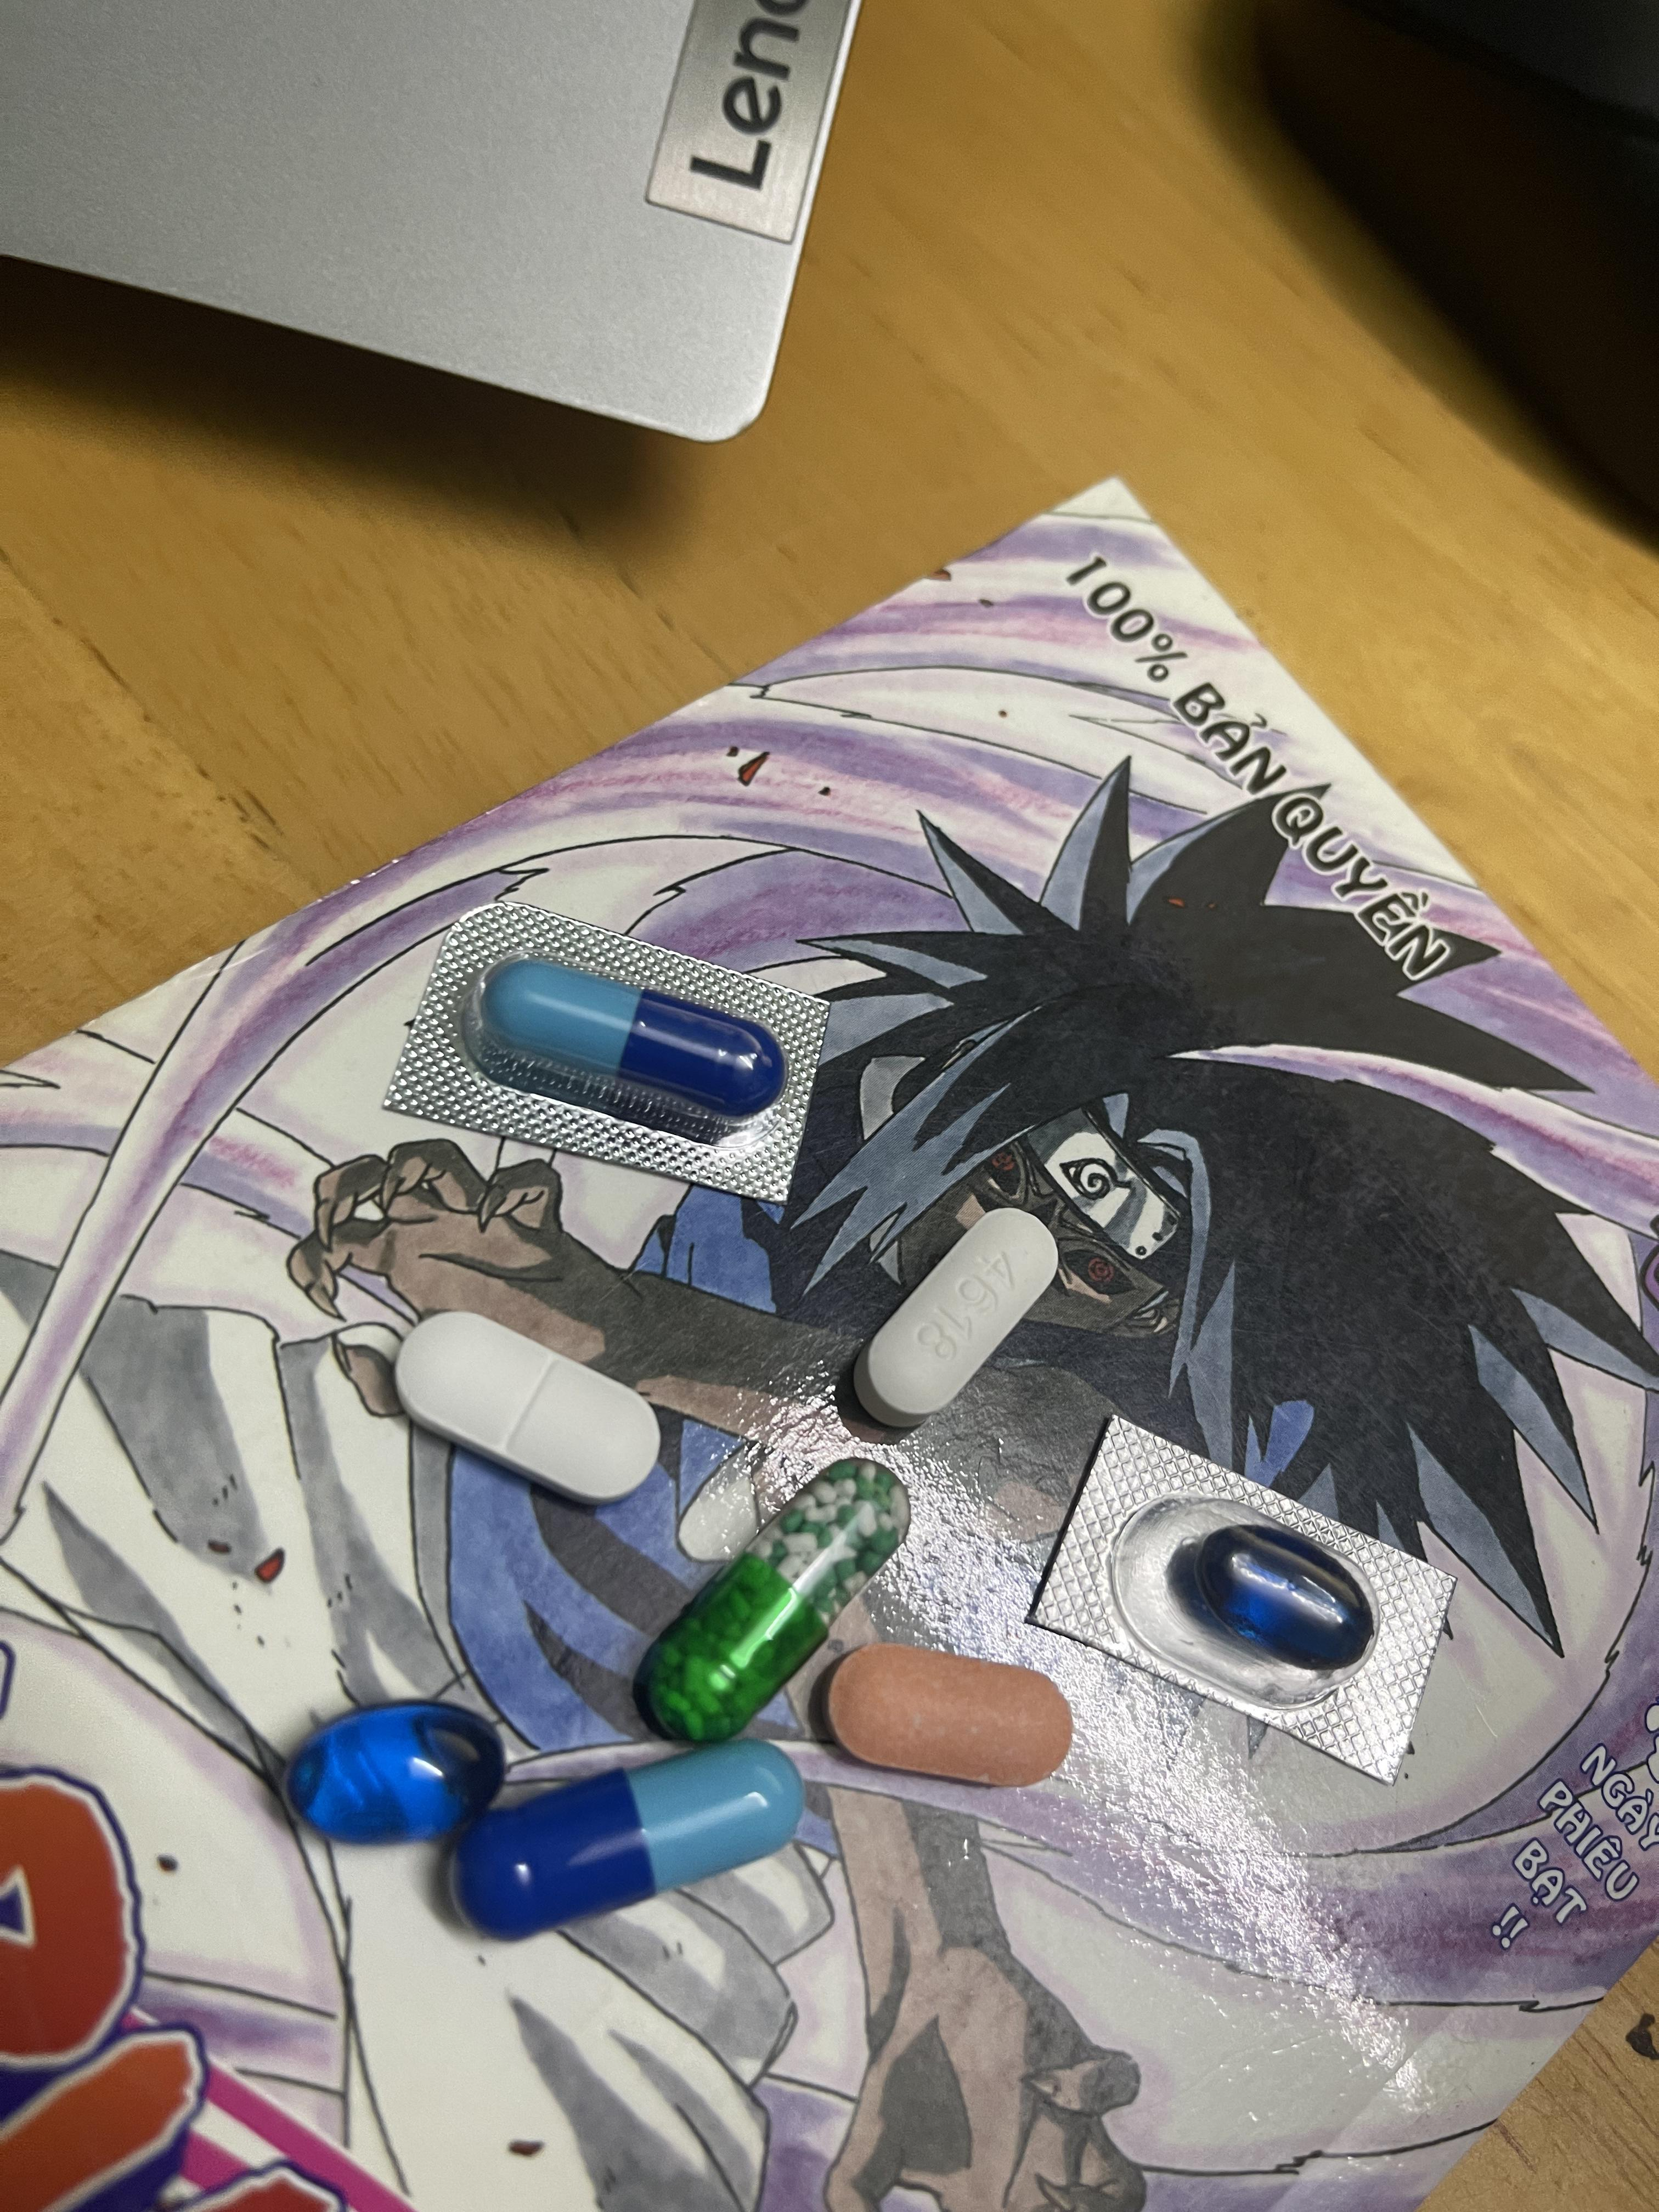Lincomyxin_500mg: (282, 1702, 509, 1844), (1190, 1526, 1378, 1679)
Loratadine_10mg: (826, 1641, 1072, 1787)
Paracetamol_350mg: (392, 1306, 666, 1503)
Paracetamol_500mg: (859, 1209, 1058, 1426)
Paracetamol_650mg: (647, 1465, 903, 1740)
pill: (457, 1750, 800, 1926), (483, 961, 775, 1120)
